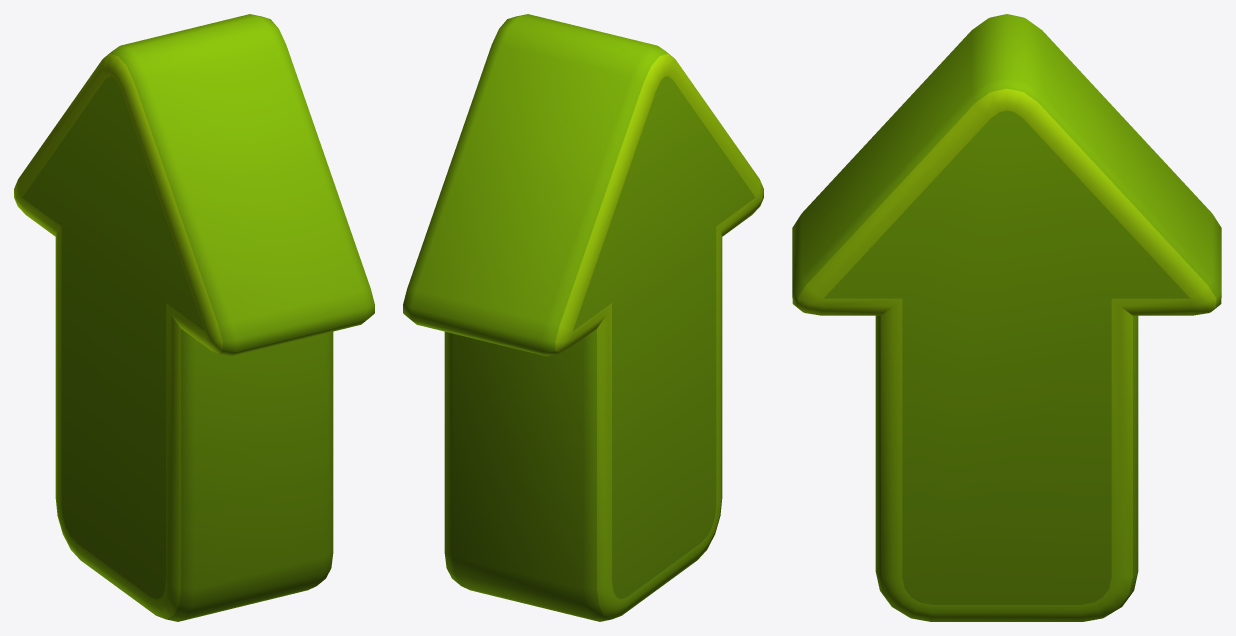
The model's file is Arrow_V1_00.fbx.
3 renders of one model, left to right at view 1: azimuth 30°, elevation 25°; view 2: azimuth 150°, elevation 25°; view 3: azimuth 270°, elevation 25°, orthographic.
Parts seen in each view (by area): view 1: Arrow_V1_00; view 2: Arrow_V1_00; view 3: Arrow_V1_00.
Boxes of the visible parts, box(x1,y1,x2,y2) form: Arrow_V1_00: box(14, 14, 374, 621); Arrow_V1_00: box(403, 14, 763, 621); Arrow_V1_00: box(792, 14, 1221, 621).
Bounding box in the file's own units: 12.47 × 39.95 × 28.62.
